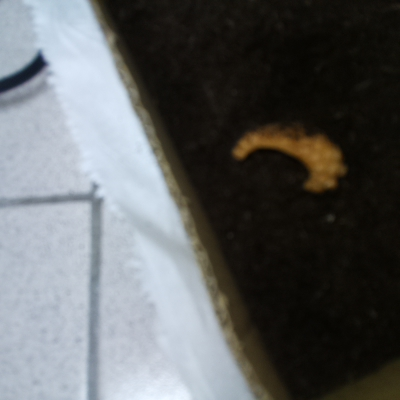eggs: (226, 113, 351, 198)
